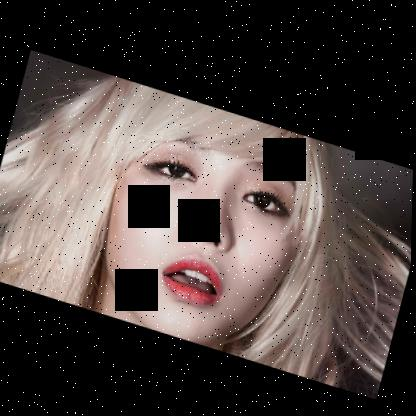Female: (88, 92, 323, 364)
